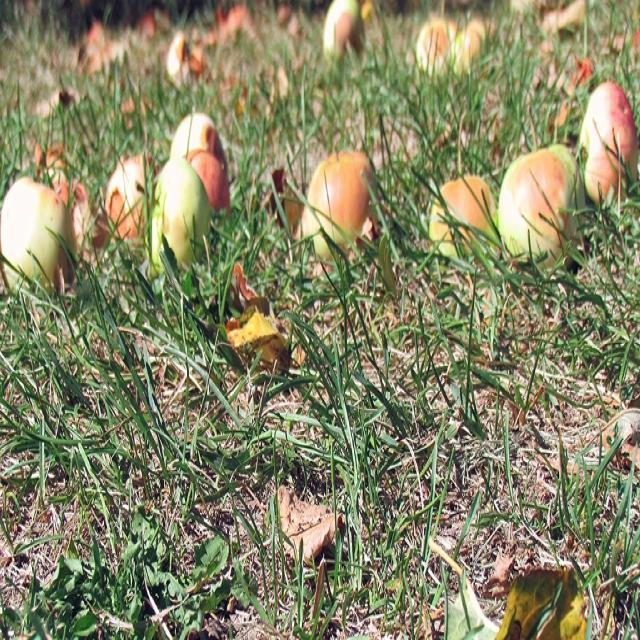Healty Apple: (496, 109, 583, 270), (4, 162, 76, 297), (307, 147, 374, 266), (579, 81, 640, 203), (151, 160, 215, 276), (429, 177, 497, 270), (104, 156, 160, 240), (170, 117, 230, 180), (185, 150, 230, 221)
